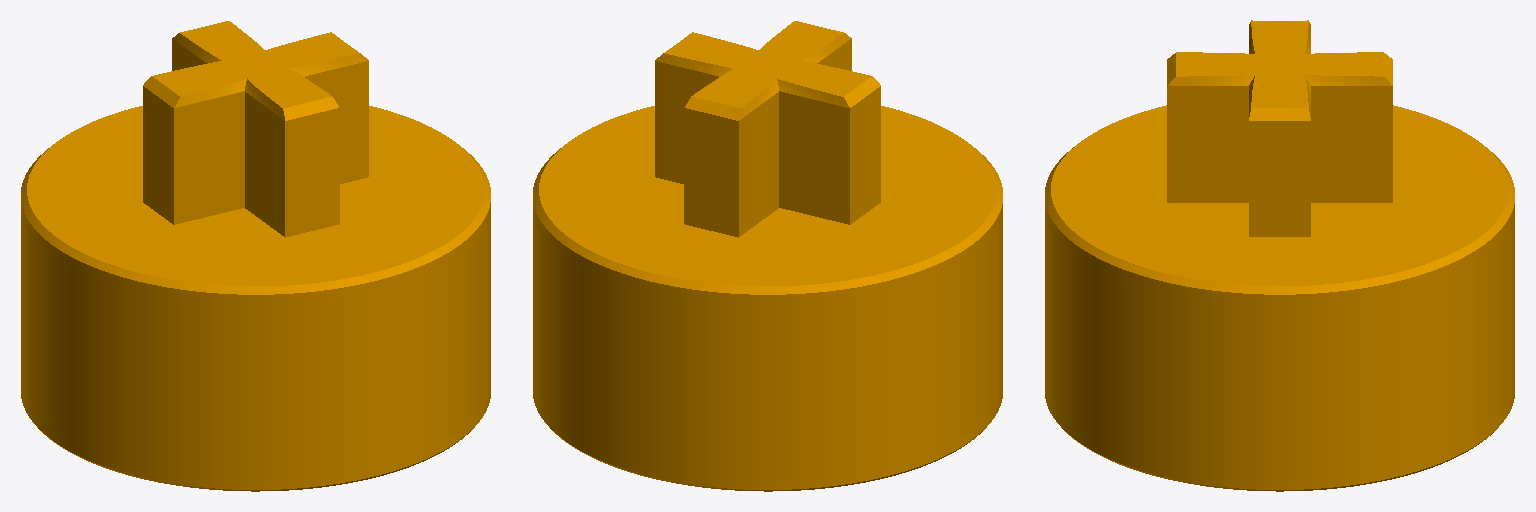
robot.urdf — rh56_shaker_lid:
<?xml version="1.0"?>
<!-- generated by generate_shaker.py (profile=real) -->
<robot name="rh56_shaker_lid">
  <link name="lid">
    <!-- origin = mating plane (plate underside) centre -->
    <inertial>
      <origin xyz="0.000000 0.000000 -0.001457" rpy="0 0 0"/>
      <mass value="0.07537"/>
      <inertia ixx="4.3439e-05" ixy="0" ixz="0" iyy="4.3439e-05" iyz="0" izz="5.8793e-05"/>
    </inertial>
    <visual><geometry><mesh filename="../../meshes/real/rh56_shaker_lid.stl" scale="0.001 0.001 0.001"/></geometry></visual>
    <collision><geometry><mesh filename="../../meshes/real/rh56_shaker_lid.stl" scale="0.001 0.001 0.001"/></geometry></collision>
  </link>
</robot>

--- Render facts (derived) ---
Views: 3 orthographic renders of the robot side by side, from view 1: azimuth 30°, elevation 25°; view 2: azimuth 150°, elevation 25°; view 3: azimuth 270°, elevation 25°.
Robot: rh56_shaker_lid — 1 links, 0 joints (none); root link lid; default pose: every joint at zero.
Visible links, largest first — view 1: lid; view 2: lid; view 3: lid.
Boxes of the visible links, x1,y1,x2,y2 form: lid: (21, 21, 490, 491); lid: (533, 21, 1002, 491); lid: (1045, 20, 1514, 491).
Bounding box of the posed robot: 0.075 × 0.075 × 0.0577 m (x, y, z).
1 mesh visuals loaded from 1 distinct referenced files (1 binary STL).
